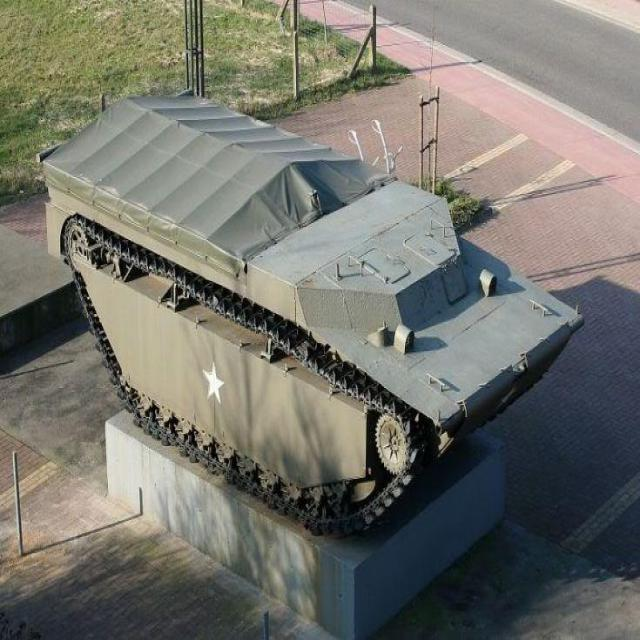MIL_MBT: (47, 65, 579, 491)
